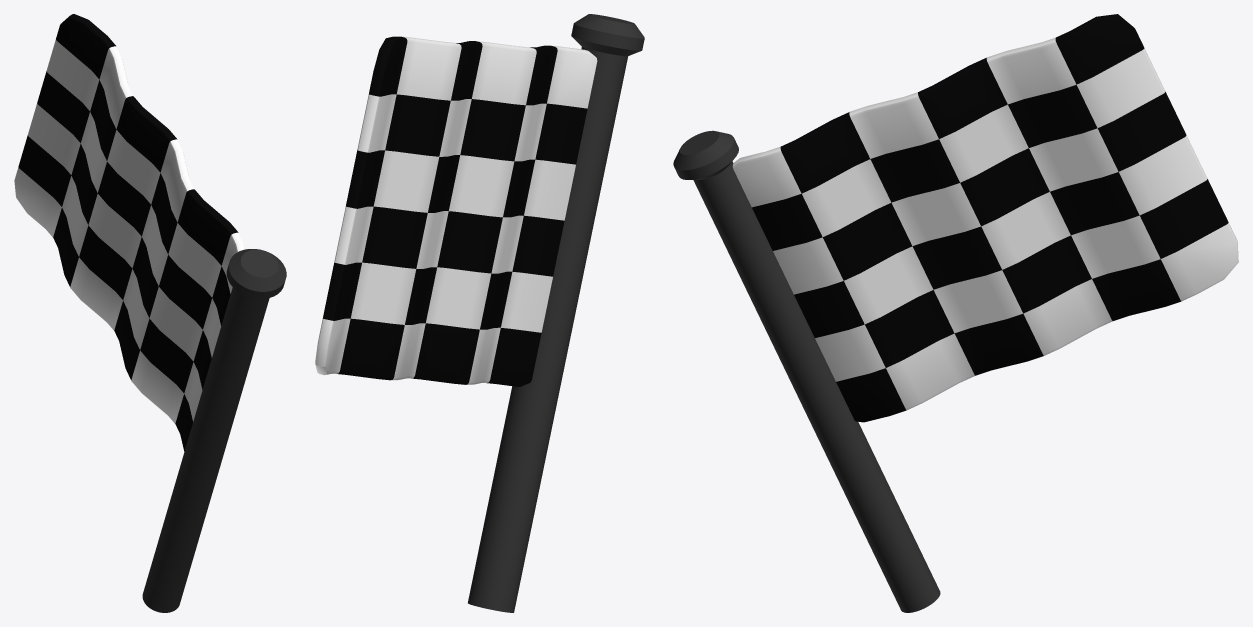
Rendered from CheckerFlag.fbx.
3 renders of one model, left to right at view 1: azimuth 30°, elevation 25°; view 2: azimuth 150°, elevation 25°; view 3: azimuth 270°, elevation 25°, orthographic. The views are drawn at different scales.
Visible parts, largest first — view 1: CheckerFlag; view 2: CheckerFlag; view 3: CheckerFlag.
Part boxes in pixels (x1,y1,x2,y2): CheckerFlag: (14, 14, 286, 612); CheckerFlag: (315, 14, 644, 612); CheckerFlag: (673, 14, 1238, 612).
Size of the model in its own units: 6 by 58.89 by 50.86.
